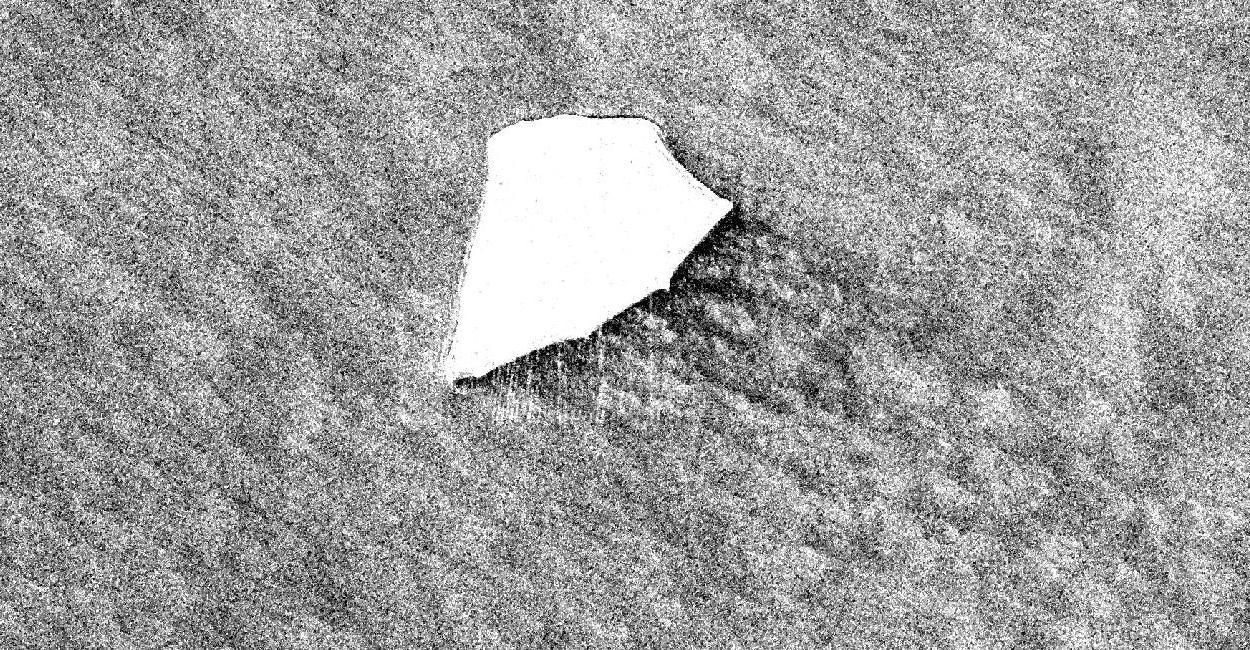Look-alike: (454, 140, 762, 402)
